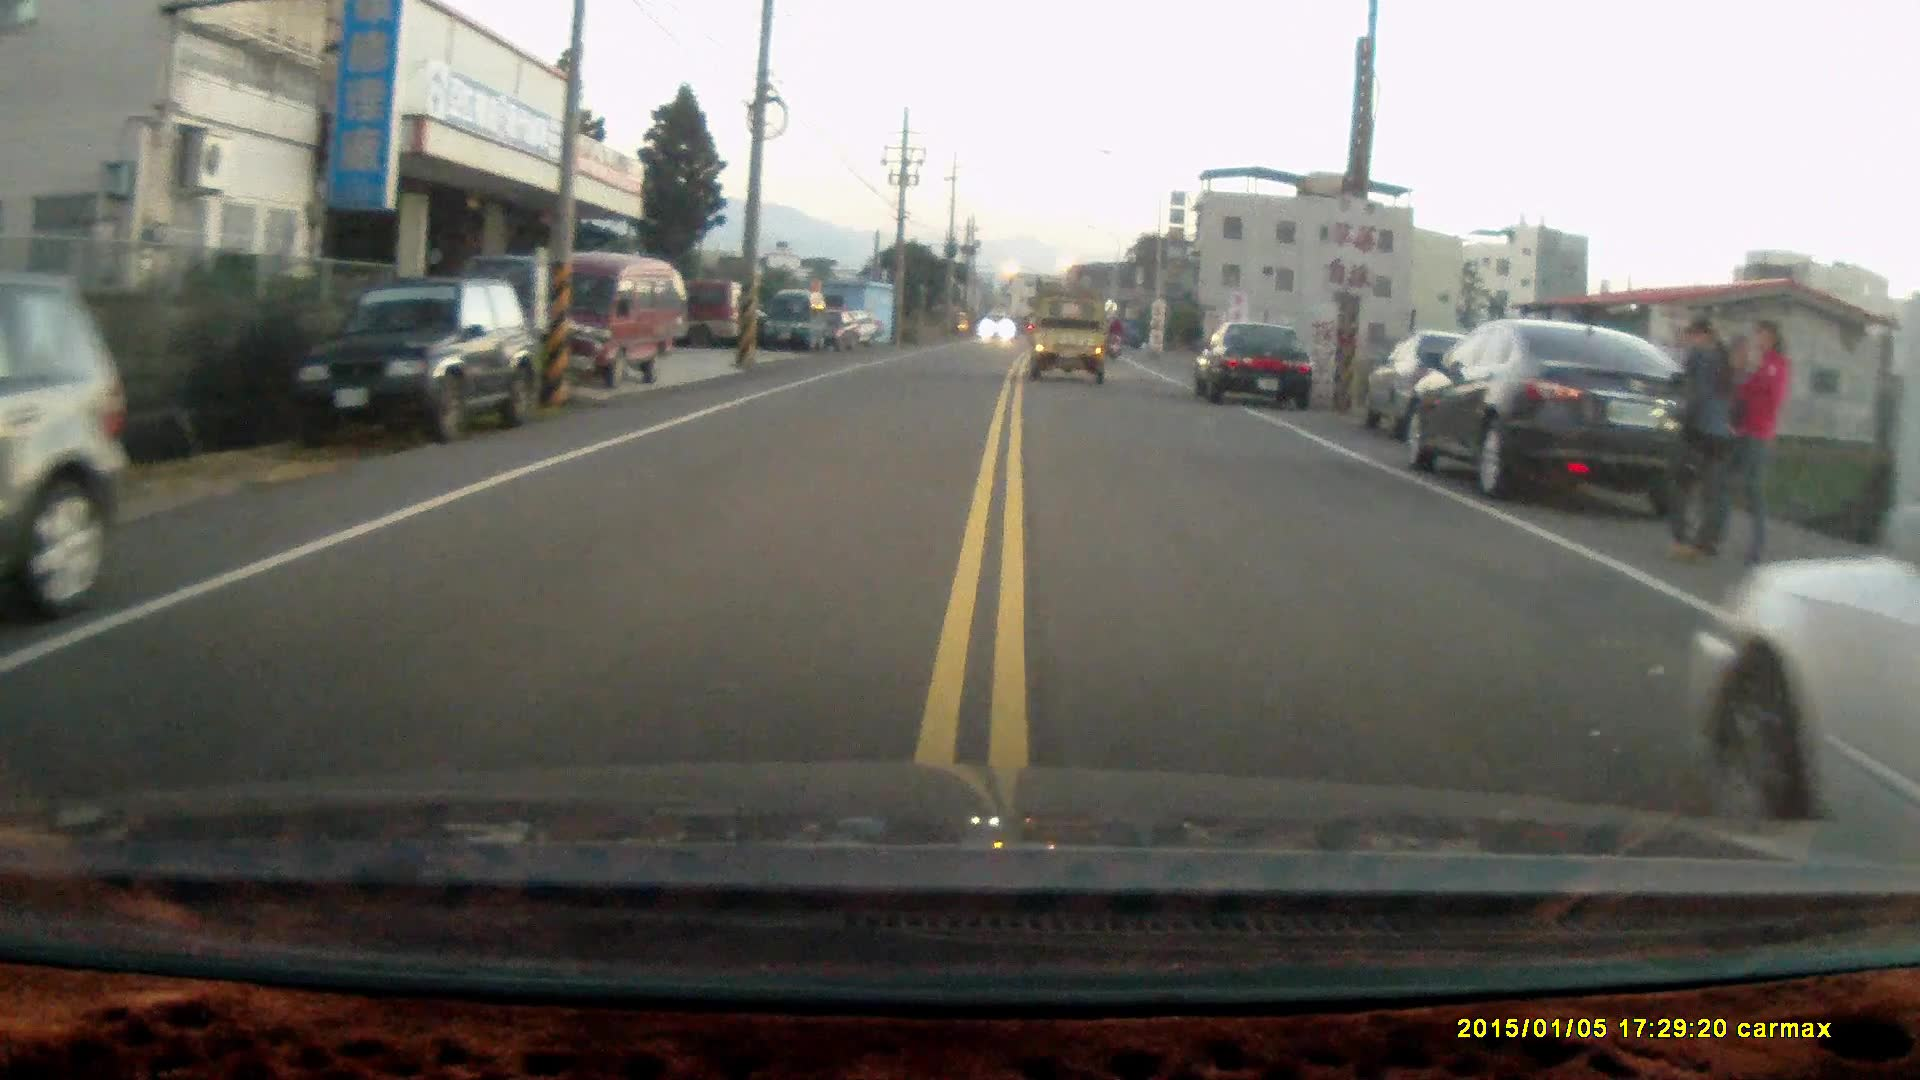pedestrian: (1655, 314, 1739, 562), (1719, 314, 1792, 558)
vehicle: (1691, 475, 1920, 846), (1400, 317, 1732, 505), (3, 276, 134, 610), (298, 275, 536, 448), (515, 251, 691, 383), (1193, 315, 1317, 407), (1031, 290, 1116, 385), (761, 288, 833, 351)
